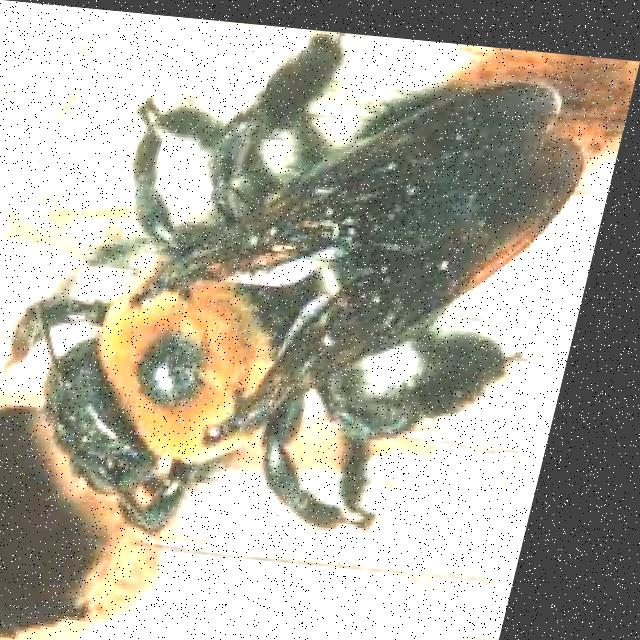Xylocopa: (0, 13, 609, 560)
